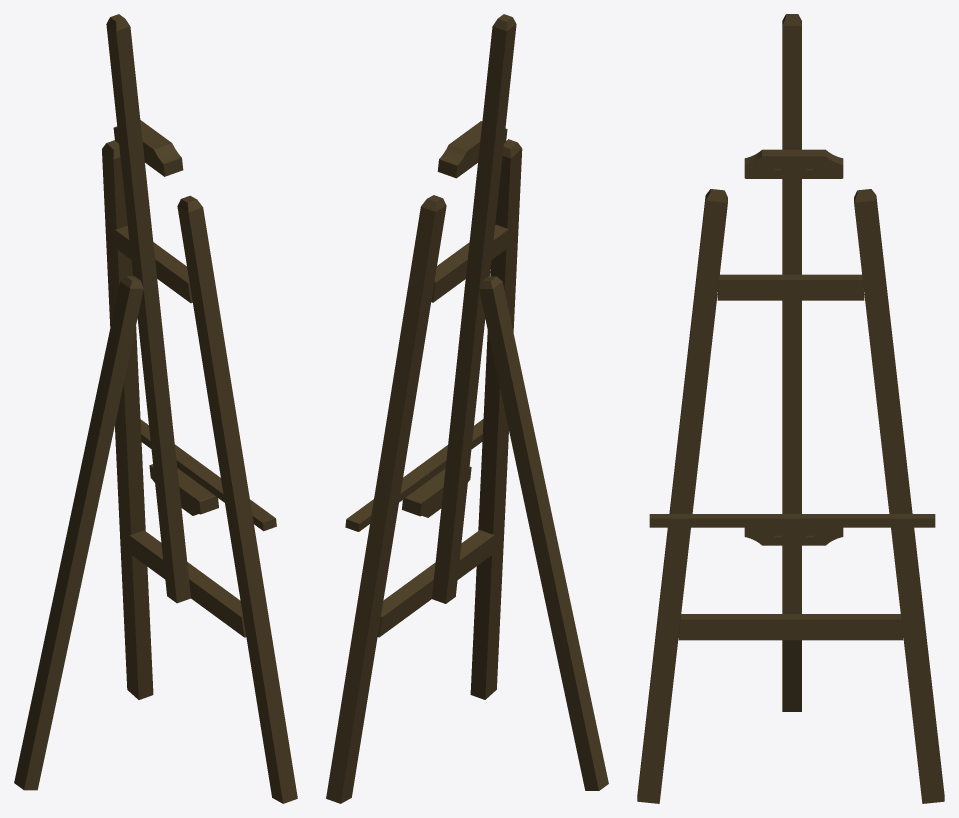
File: Easel.fbx
The picture shows the model from 3 angles, left to right: view 1: azimuth 30°, elevation 25°; view 2: azimuth 150°, elevation 25°; view 3: azimuth 270°, elevation 25°; orthographic projection.
Parts seen in each view (by area): view 1: Cube.009, Cube.010, Cube.015, Cube.008, Cube.011, Cube.012, Cube.013, Cube.014; view 2: Cube.009, Cube.010, Cube.015, Cube.008, Cube.011, Cube.012, Cube.013, Cube.014; view 3: Cube.009, Cube.010, Cube.008, Cube.011, Cube.012, Cube.013, Cube.014, Cube.015.
Part boxes in pixels (x1,y1,x2,y2): Cube.009: [102, 140, 297, 803]; Cube.010: [106, 14, 190, 603]; Cube.015: [14, 276, 143, 790]; Cube.008: [129, 530, 246, 637]; Cube.011: [140, 419, 276, 531]; Cube.012: [115, 225, 192, 303]; Cube.013: [113, 120, 183, 176]; Cube.014: [149, 464, 218, 515]; Cube.009: [326, 139, 522, 803]; Cube.010: [431, 14, 516, 603]; Cube.015: [479, 276, 608, 790]; Cube.008: [377, 530, 494, 637]; Cube.011: [345, 419, 483, 531]; Cube.012: [431, 224, 508, 302]; Cube.013: [437, 121, 507, 178]; Cube.014: [402, 466, 471, 517]; Cube.009: [637, 189, 944, 803]; Cube.010: [782, 14, 801, 613]; Cube.008: [678, 614, 903, 640]; Cube.011: [649, 514, 935, 527]; Cube.012: [717, 274, 864, 300]; Cube.013: [744, 149, 843, 178]; Cube.014: [744, 527, 843, 545]; Cube.015: [782, 640, 801, 711].
Size of the model in its own units: 133 by 478 by 180.
